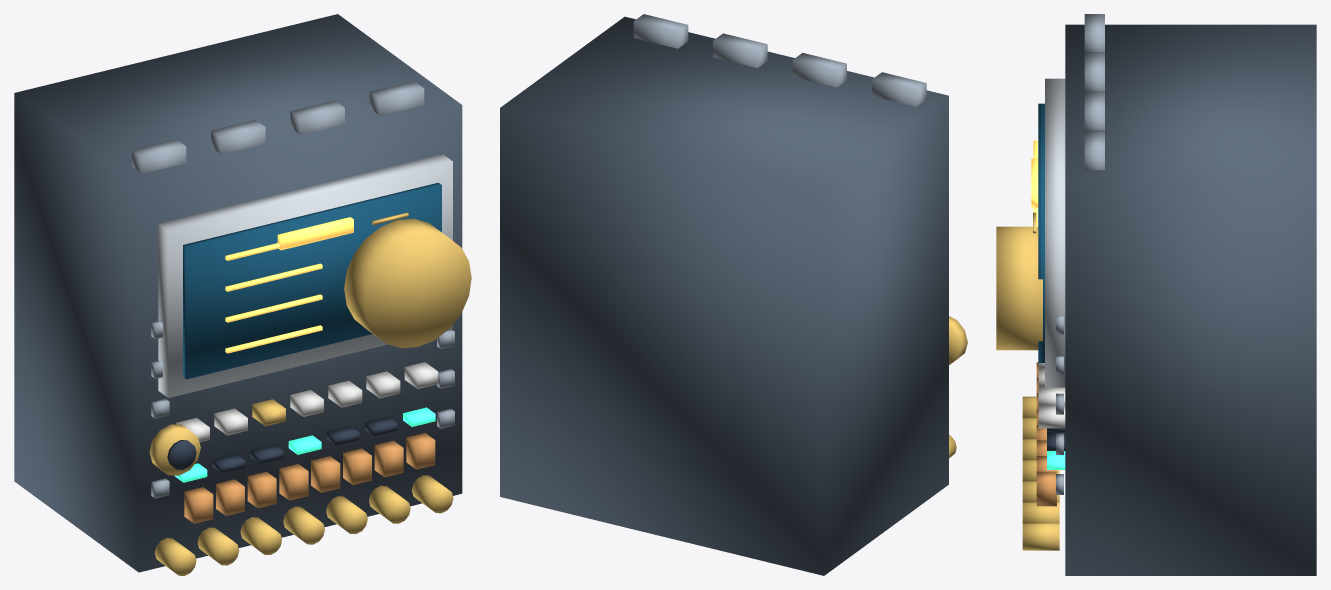
Rendered from 40_L87_MotorPrechargeContactor.glb.
3 views of the same model, side by side, from view 1: azimuth 30°, elevation 25°; view 2: azimuth 150°, elevation 25°; view 3: azimuth 270°, elevation 25° (orthographic).
Parts seen in each view (by area): view 1: L87_MotorPrechargeContactor, L87_MotorPrechargeContactor_Part_0012, L87_MotorPrechargeContactor_Part_0010, L87_MotorPrechargeContactor_Part_0013, L87_MotorPrechargeContactor_Part_0011, L87_MotorPrechargeContactor_Part_0014; view 2: L87_MotorPrechargeContactor, L87_MotorPrechargeContactor_Part_0010, L87_MotorPrechargeContactor_Part_0013; view 3: L87_MotorPrechargeContactor, L87_MotorPrechargeContactor_Part_0012, L87_MotorPrechargeContactor_Part_0010.
Boxes of the visible parts, bbox=[...] form: L87_MotorPrechargeContactor: bbox=[14, 14, 462, 575]; L87_MotorPrechargeContactor_Part_0012: bbox=[344, 218, 471, 348]; L87_MotorPrechargeContactor_Part_0010: bbox=[132, 81, 424, 173]; L87_MotorPrechargeContactor_Part_0013: bbox=[149, 424, 200, 475]; L87_MotorPrechargeContactor_Part_0011: bbox=[277, 217, 353, 250]; L87_MotorPrechargeContactor_Part_0014: bbox=[167, 440, 196, 469]; L87_MotorPrechargeContactor: bbox=[500, 16, 956, 575]; L87_MotorPrechargeContactor_Part_0010: bbox=[633, 14, 926, 106]; L87_MotorPrechargeContactor_Part_0013: bbox=[949, 316, 967, 364]; L87_MotorPrechargeContactor: bbox=[1022, 24, 1316, 575]; L87_MotorPrechargeContactor_Part_0012: bbox=[996, 226, 1042, 350]; L87_MotorPrechargeContactor_Part_0010: bbox=[1084, 14, 1104, 169].
Bounding box in the file's own units: 0.9695 × 1.16 × 0.823.
